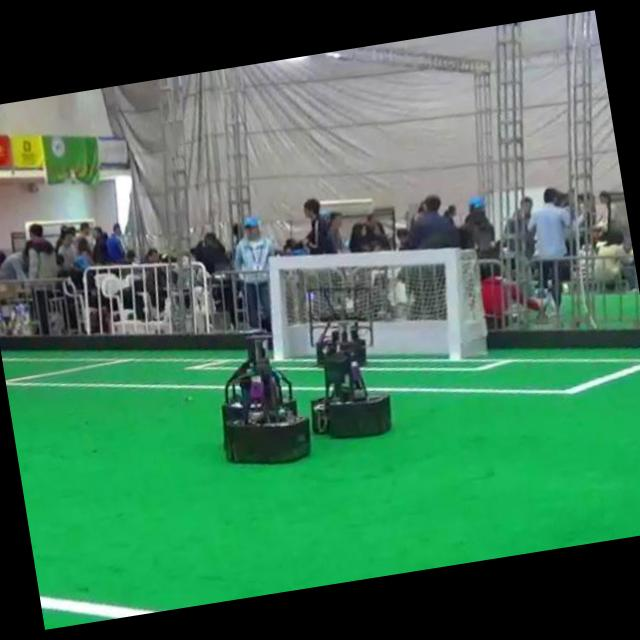goal: (444, 251, 464, 359), (269, 257, 285, 360)
robot: (222, 330, 310, 462), (312, 331, 392, 438), (307, 287, 374, 366)
